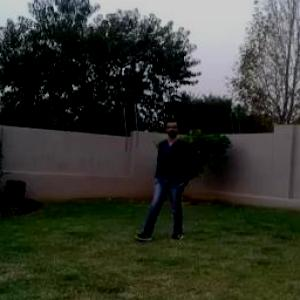follow: (154, 117, 188, 232)
